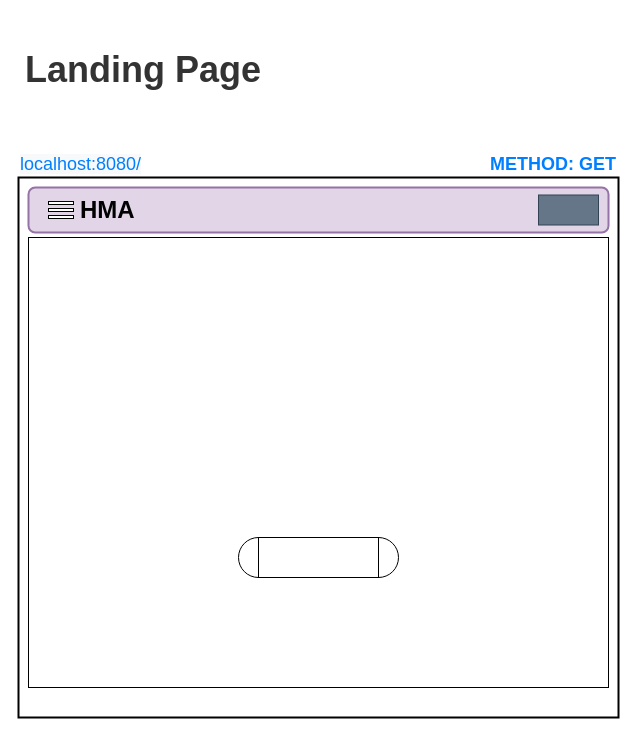
The diagram is 636 pixels wide and 735 high, and some of its shapes have lost their labels. Each missing label, with the centre of its shape:
"cart" goes at [568,209].
"ORDER NOW" goes at [318,557].
